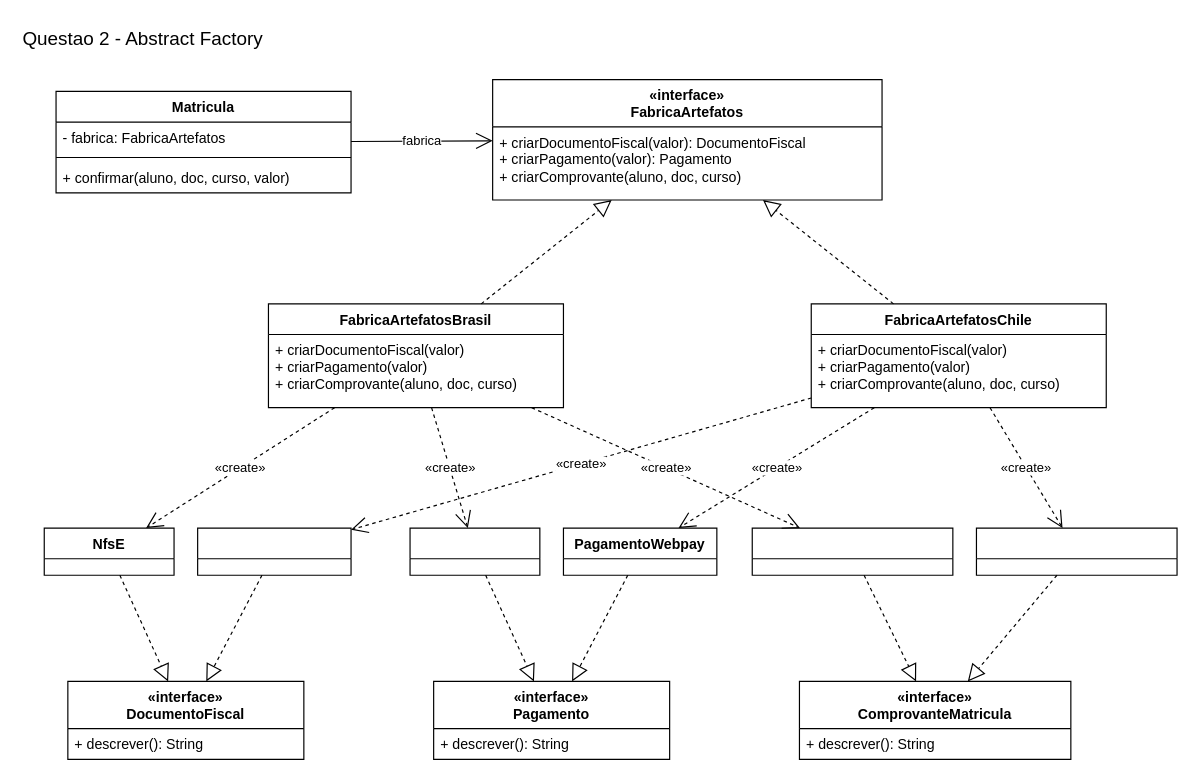
This 1198x782 diagram has some shape labels left out. Each missing label, with the centre of its shape:
"BoletaElectronica" goes at (x=273, y=551).
"ComprovanteMatriculaCpf" goes at (x=852, y=551).
"ComprovanteMatriculaRut" goes at (x=1076, y=551).
"PagamentoPix" goes at (x=474, y=551).
